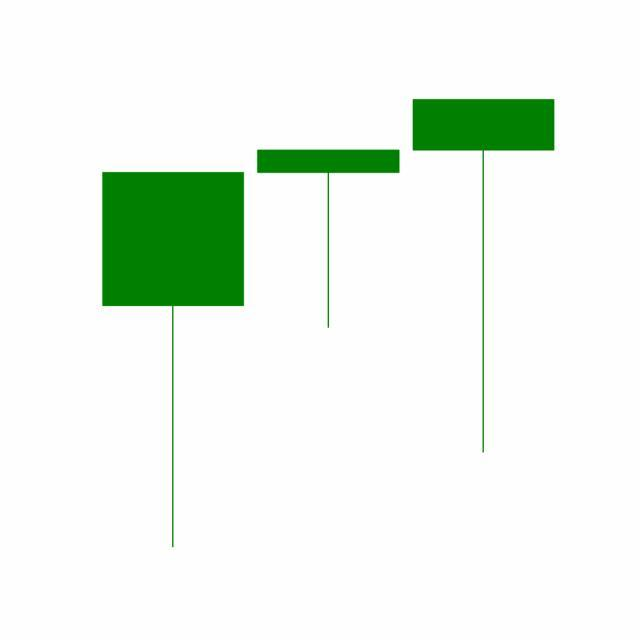Hanging Man: (250, 148, 407, 330)
